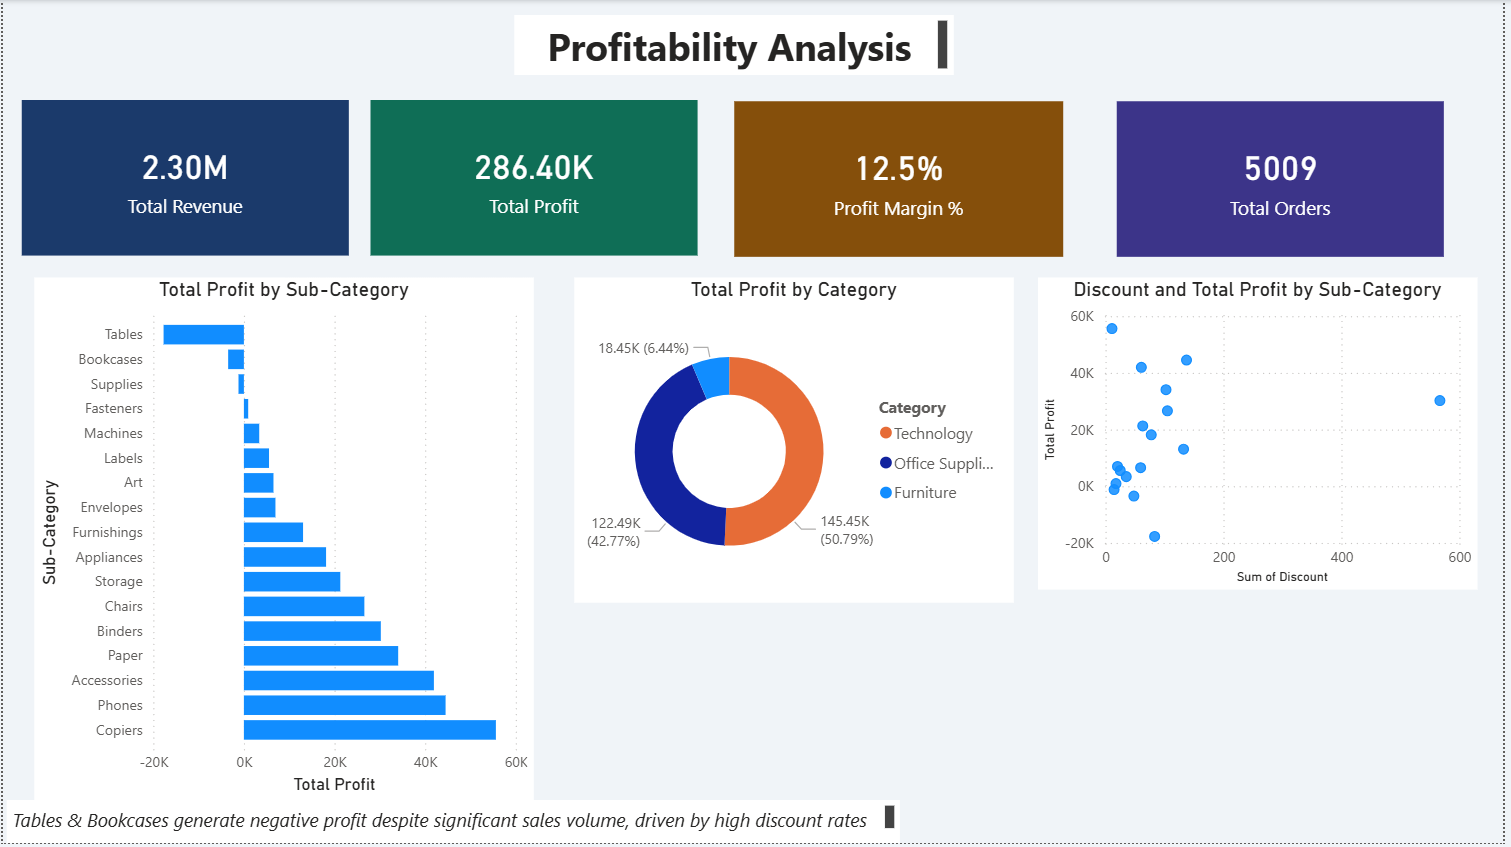

Layout of this report page (visuals, bound fields, positions):
{"tool":"powerbi","page":{"name":"Page 2","canvas":[1280,720],"ordinal":1},"visuals":[{"type":"clusteredBarChart","fields":{"Category":["superstore_clean.Sub-Category"],"Y":["superstore_clean.Total Profit"]},"box":[27.1,236.6,426.2,446.1],"z":0},{"type":"donutChart","fields":{"Category":["superstore_clean.Category"],"Y":["superstore_clean.Total Profit"]},"box":[487.5,236.6,374.9,278],"z":1},{"type":"scatterChart","title":"Discount and Total Profit by Sub-Category","fields":{"X":["Sum(superstore_clean.Discount)"],"Y":["superstore_clean.Total Profit"],"Category":["superstore_clean.Sub-Category"]},"box":[883.7,236.6,374.9,266.5],"z":2},{"type":"textbox","box":[436.2,12.8,374.9,51.3],"z":3},{"type":"card","fields":{"Values":["superstore_clean.Total Revenue"]},"box":[15.7,85.5,279.4,132.6],"z":4},{"type":"card","fields":{"Values":["superstore_clean.Total Profit"]},"box":[313.6,85.5,279.4,132.6],"z":5},{"type":"card","fields":{"Values":["superstore_clean.Total Orders"]},"box":[950.7,86.9,279.4,132.6],"z":6},{"type":"card","fields":{"Values":["superstore_clean.Profit Margin %"]},"box":[624.3,86.9,280.8,132.6],"z":7},{"type":"textbox","box":[2.9,682.8,762.6,37.1],"z":8}]}

Visuals, with their boxes in screenshot pixels (x1, y1, x2, y2), scaled from the page's 1280x720 canvas onto the 1511x847 screenshot:
clusteredBarChart - superstore_clean.Sub-Category x superstore_clean.Total Profit: 32,278,535,803
donutChart - superstore_clean.Category x superstore_clean.Total Profit: 575,278,1018,605
"Discount and Total Profit by Sub-Category" scatterChart: 1043,278,1486,592
textbox: 515,15,957,75
card - superstore_clean.Total Revenue: 19,101,348,257
card - superstore_clean.Total Profit: 370,101,700,257
card - superstore_clean.Total Orders: 1122,102,1452,258
card - superstore_clean.Profit Margin %: 737,102,1068,258
textbox: 3,803,904,846
